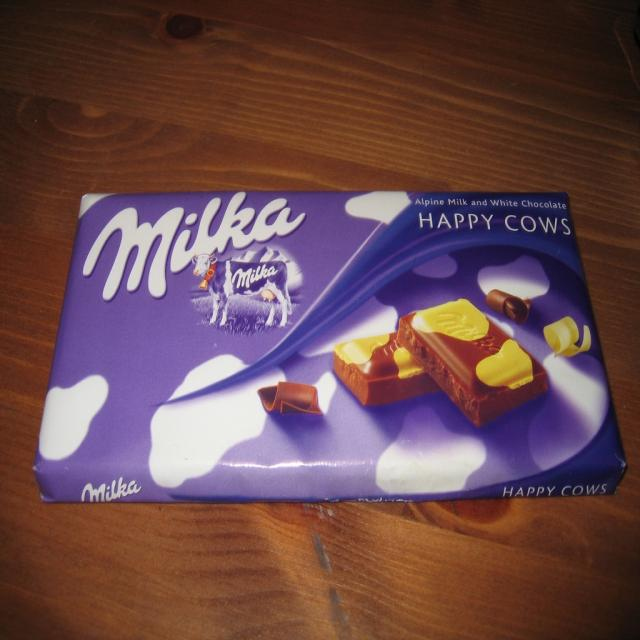milka: (76, 186, 312, 338), (80, 470, 148, 505)
